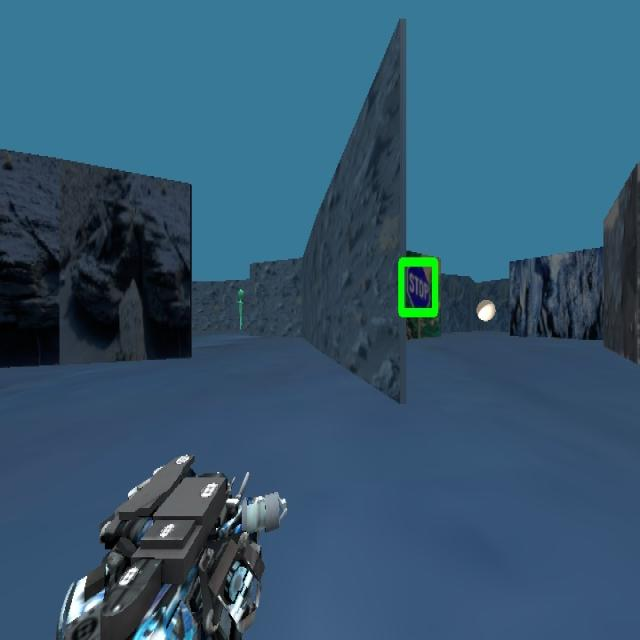Circle: (476, 299, 496, 321)
Stop_Sign: (397, 254, 439, 318)
